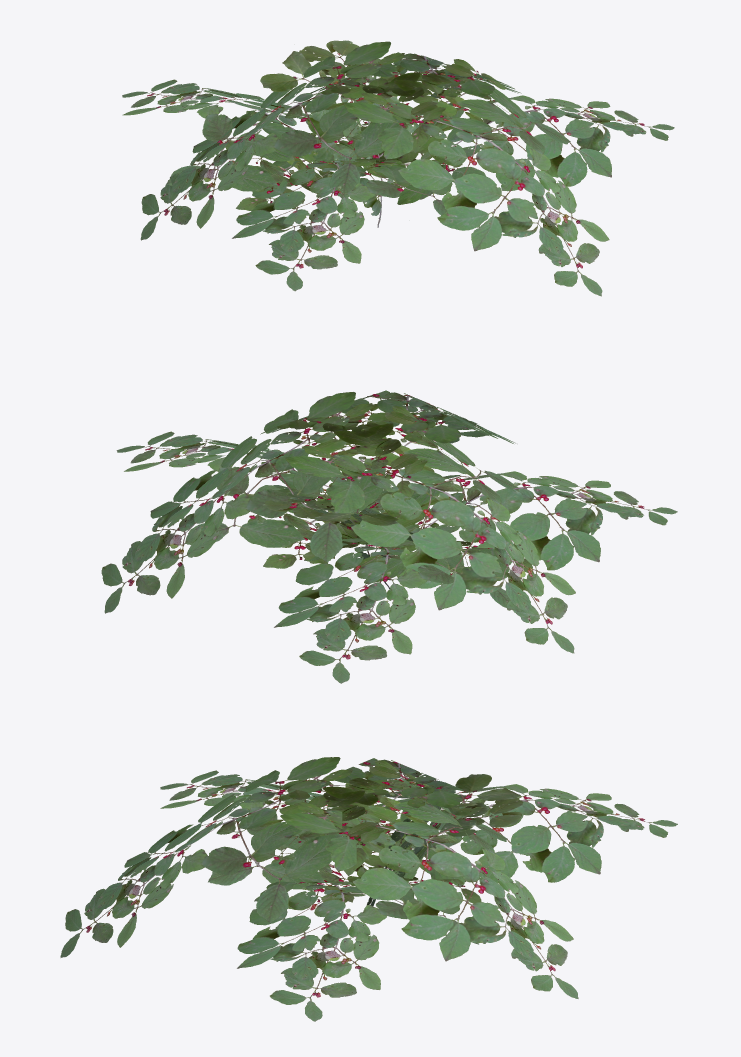
The model's file is bush10.FBX.
3 renders of one model, top to bottom at view 1: azimuth 30°, elevation 25°; view 2: azimuth 150°, elevation 25°; view 3: azimuth 270°, elevation 25°, orthographic. The views are drawn at different scales.
Visible parts, largest first — view 1: Box001; view 2: Box001; view 3: Box001.
Part boxes in pixels (box(x1,y1,x2,y2)): Box001: box(122, 40, 674, 296); Box001: box(101, 390, 677, 683); Box001: box(60, 757, 677, 1021).
Bounding box in the file's own units: 10.31 × 2.65 × 11.3.
